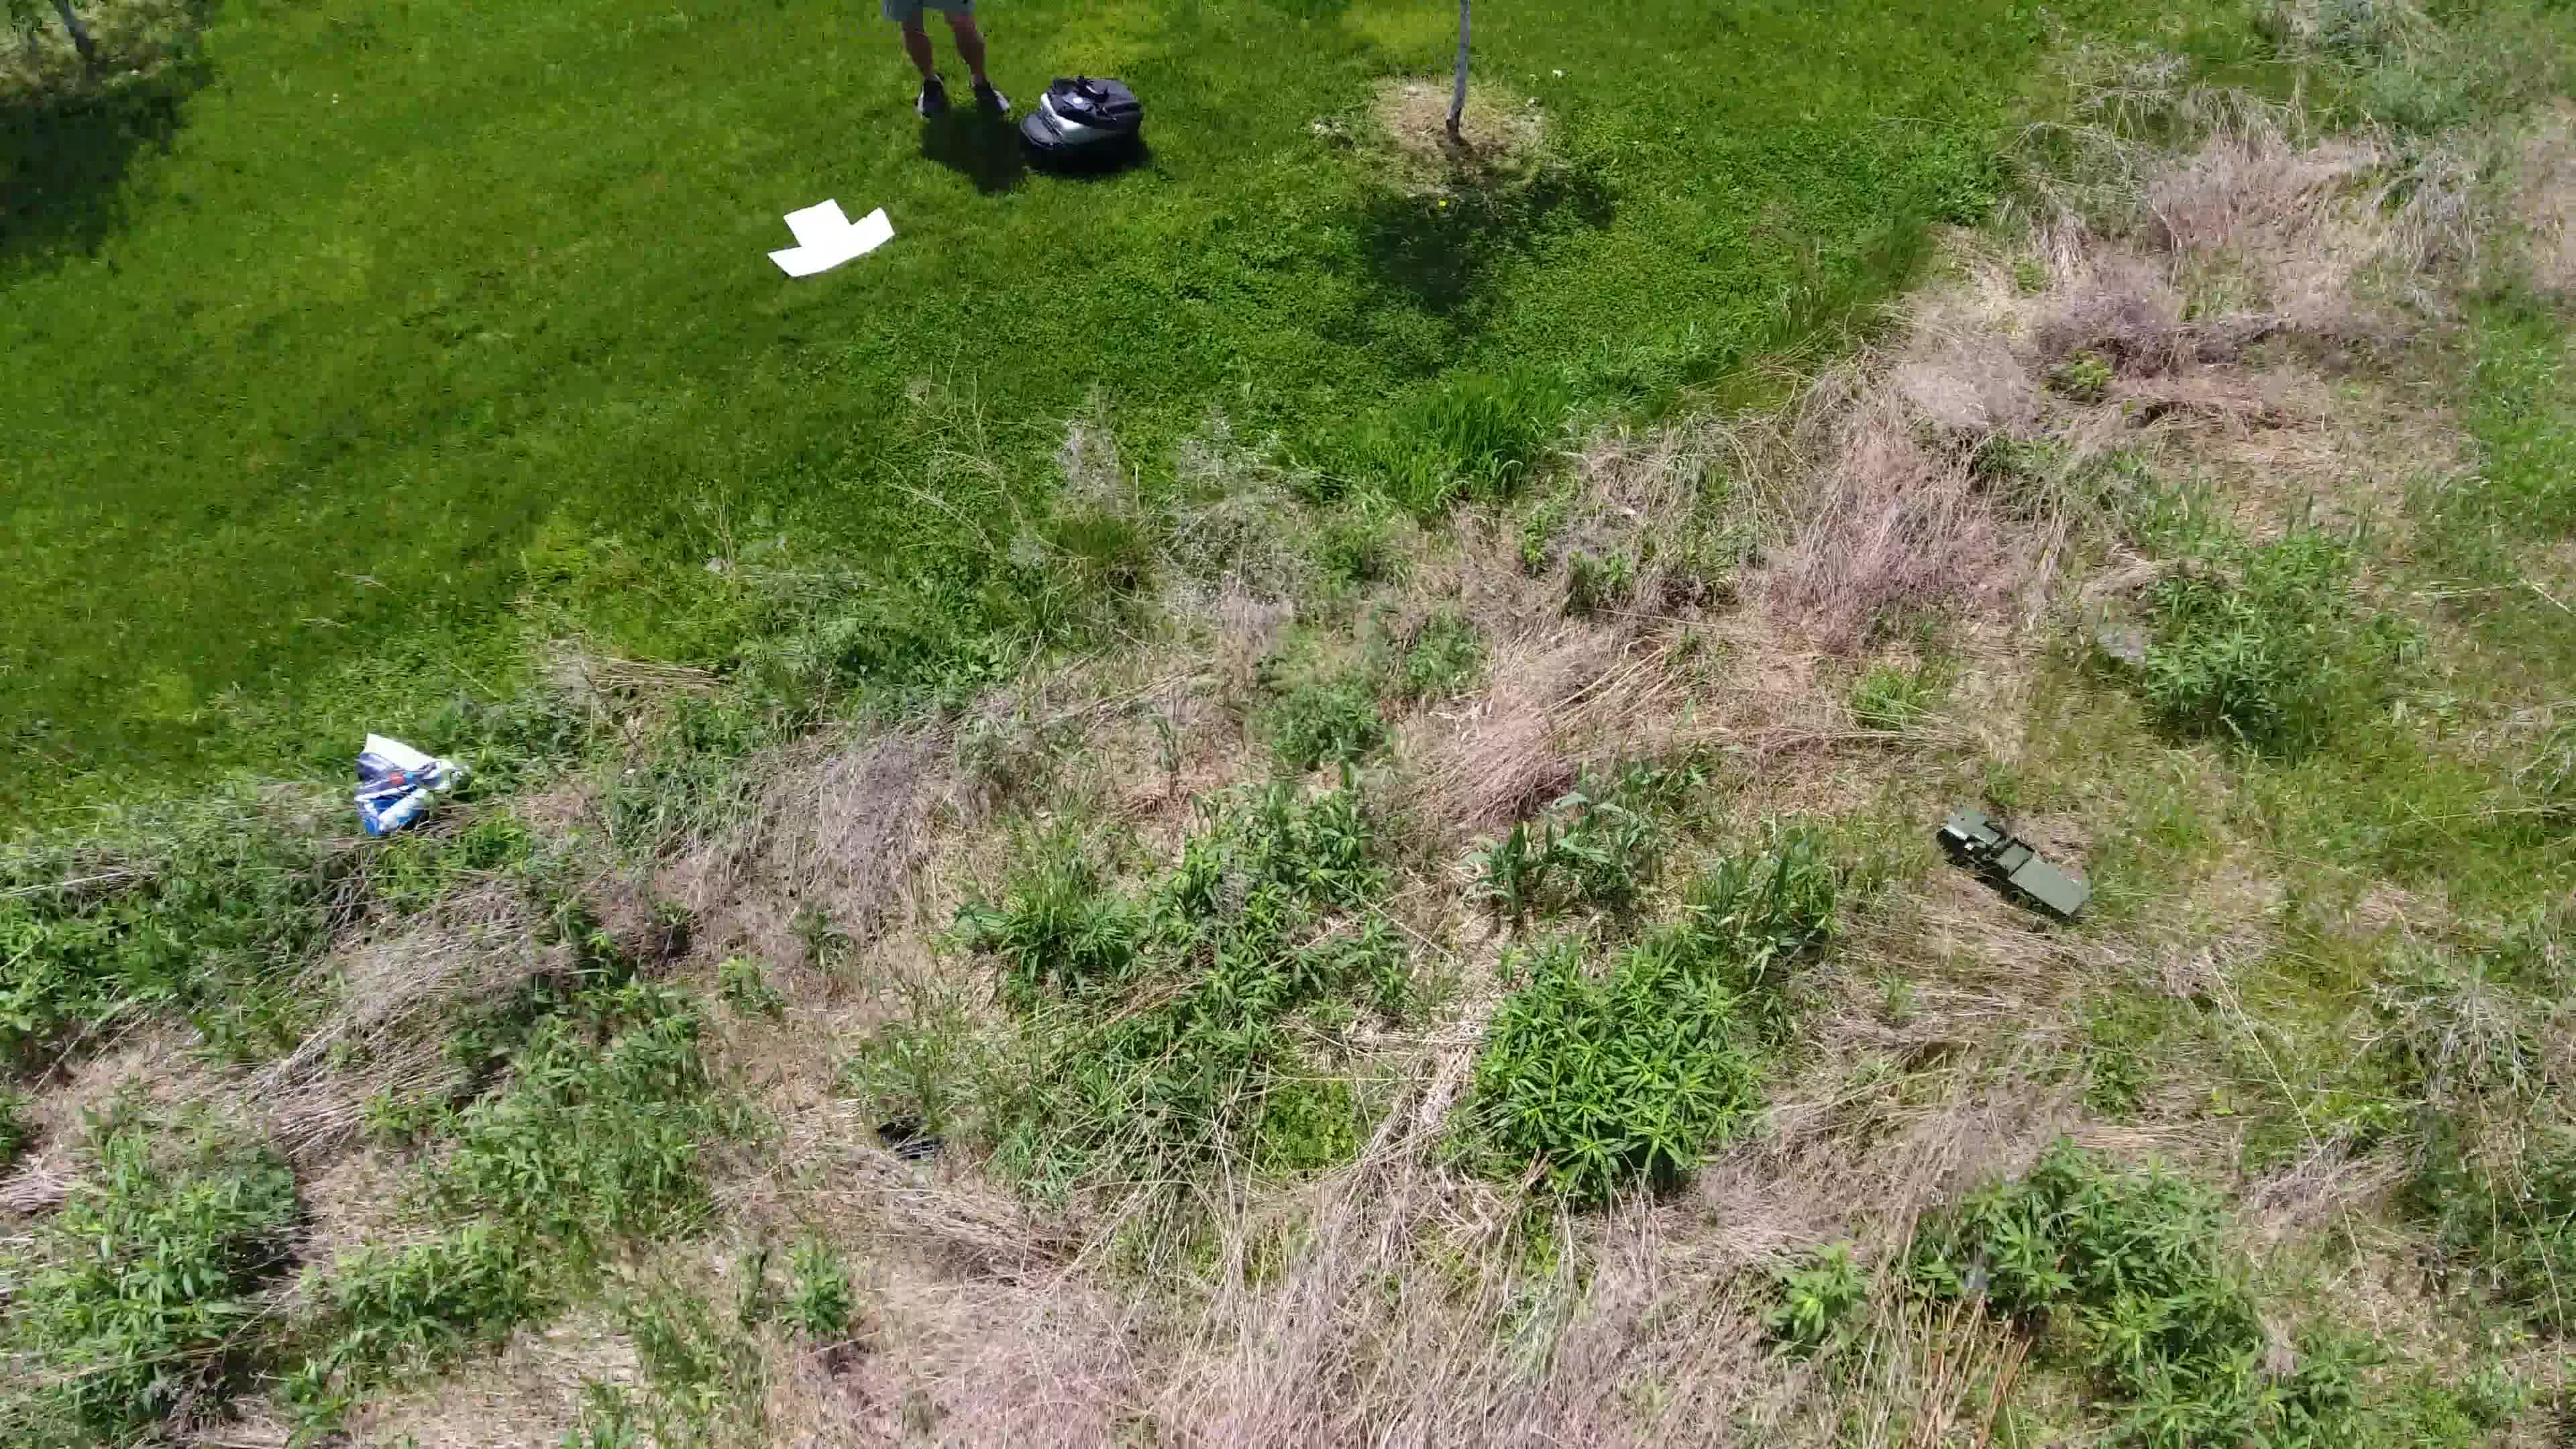transporter9: (1934, 796, 2098, 927)
